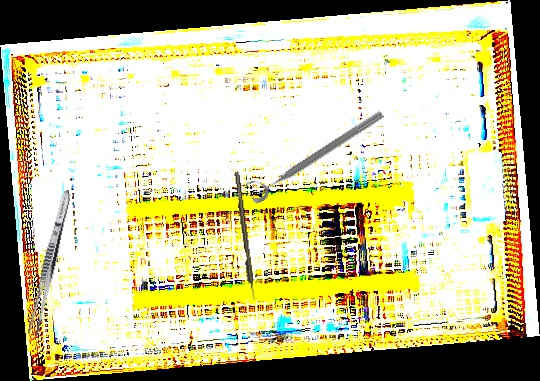Dressing Forceps: (26, 188, 74, 338)
Fixation Ring: (242, 99, 387, 206)
Hook Surgical: (234, 171, 256, 302)
